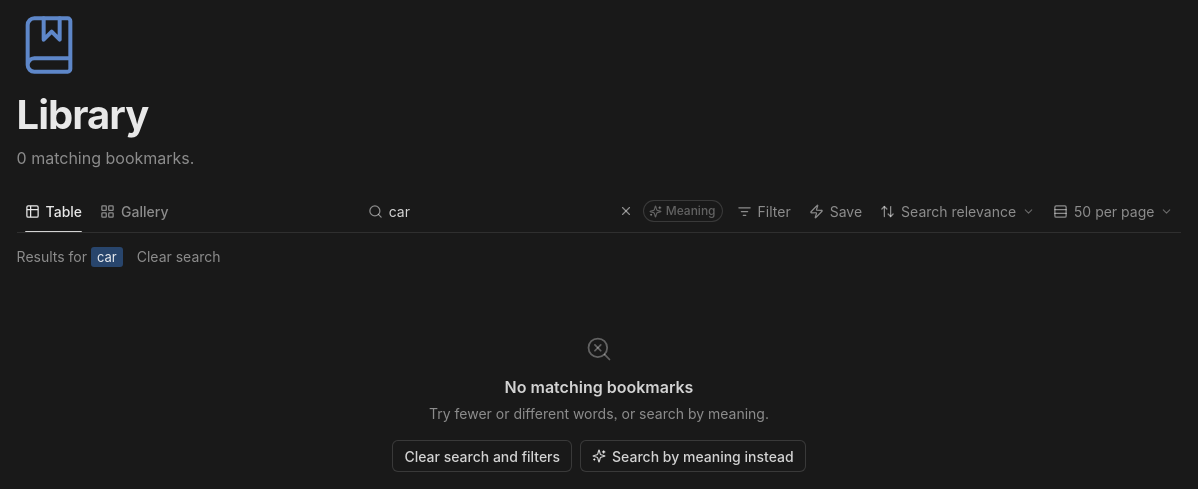
Test: search by meaning › asks for posts about the same thing once Meaning is on, and marks them
The image size is (1198, 489).
Expected: the heading "No matching bookmarks" is shown, left=505, top=375, right=693, bottom=399
Click the button "Meaning": click(683, 211) left=643, top=200, right=722, bottom=222
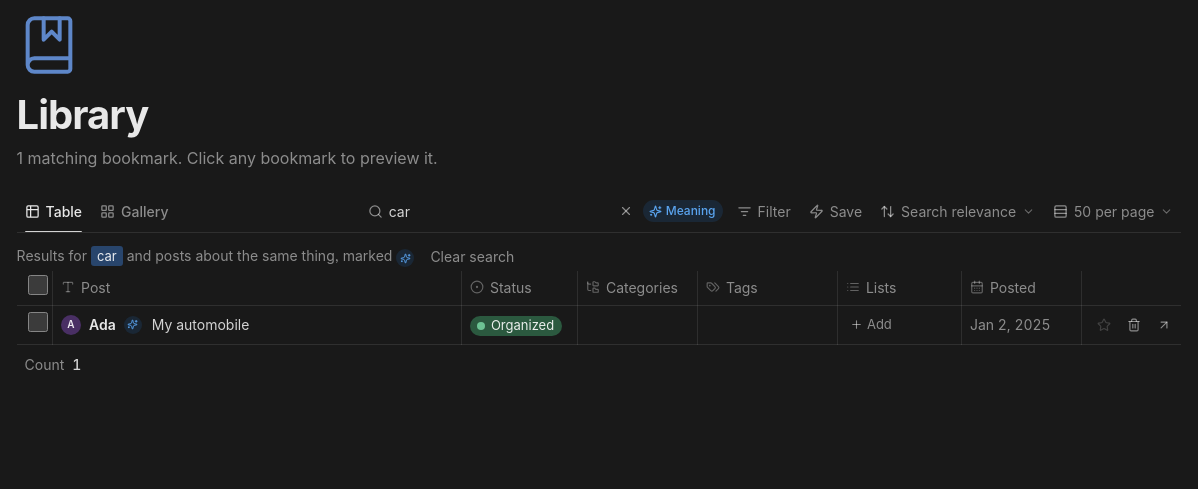
Expected: the link "My automobile" is shown, left=152, top=316, right=249, bottom=333
Expected: the text "Results for car and posts about the same thing, marked" is shown, left=17, top=245, right=416, bottom=267
Expected: the picture named "Found by meaning" next to ", marked" is shown, left=396, top=249, right=414, bottom=267
